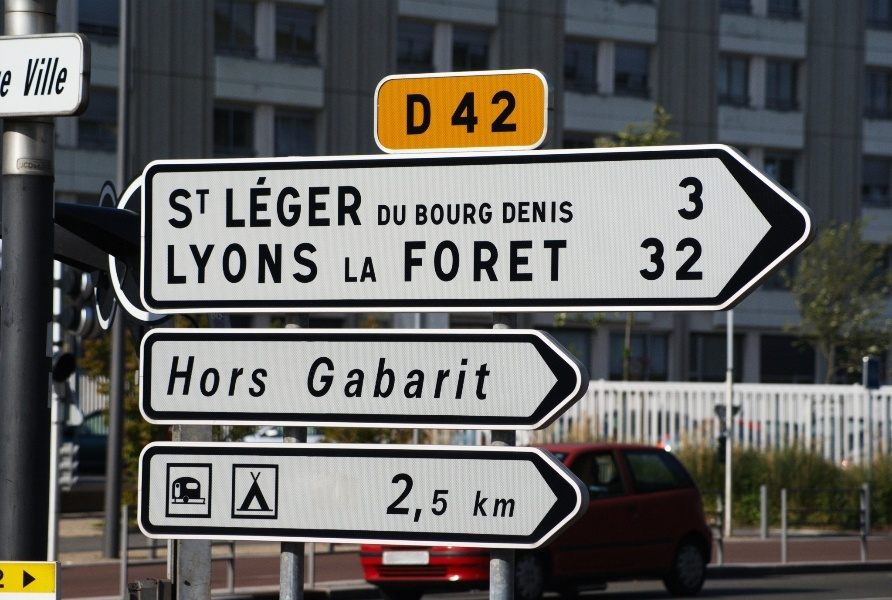text: (241, 176, 256, 228), (257, 176, 272, 228), (273, 176, 288, 228), (289, 176, 304, 228), (305, 176, 320, 228), (321, 176, 336, 228), (337, 176, 352, 228), (401, 473, 416, 523), (417, 473, 432, 523), (433, 473, 448, 523), (193, 187, 209, 232), (689, 176, 705, 221), (417, 92, 433, 137), (465, 89, 480, 135), (481, 89, 496, 135), (497, 89, 512, 135), (227, 176, 240, 228), (177, 187, 192, 232), (321, 356, 336, 401), (337, 356, 352, 401), (353, 356, 368, 401), (369, 356, 384, 401), (385, 356, 400, 401), (401, 356, 416, 401), (417, 356, 432, 401), (433, 356, 448, 401), (449, 356, 464, 401), (465, 356, 480, 401), (257, 356, 273, 398), (641, 238, 656, 282), (657, 238, 672, 282), (673, 238, 688, 282), (177, 242, 192, 285), (193, 242, 208, 285), (209, 242, 224, 285), (225, 242, 240, 285), (241, 242, 256, 285), (257, 242, 272, 285), (273, 242, 288, 285), (289, 242, 304, 285), (417, 239, 432, 282), (433, 239, 448, 282), (449, 239, 464, 282), (465, 239, 480, 282), (481, 239, 496, 282), (497, 239, 512, 282), (513, 239, 528, 282), (529, 239, 544, 282), (545, 239, 560, 282), (33, 55, 48, 98), (49, 55, 64, 98), (177, 356, 192, 398), (193, 356, 208, 398), (209, 356, 224, 398), (225, 356, 240, 398), (241, 356, 256, 398), (689, 238, 703, 282), (451, 89, 464, 135), (305, 242, 318, 285), (481, 356, 493, 401), (353, 176, 363, 228), (405, 239, 416, 282), (678, 176, 688, 221), (391, 473, 400, 523), (2, 69, 16, 99), (167, 187, 176, 232), (311, 356, 320, 401), (481, 490, 496, 517), (497, 490, 512, 517), (407, 92, 416, 137), (353, 257, 368, 283), (385, 203, 400, 227), (417, 203, 432, 226), (433, 203, 448, 226), (449, 203, 464, 226), (465, 203, 480, 226), (513, 201, 528, 224), (529, 201, 544, 224), (545, 201, 560, 224), (168, 242, 176, 285), (65, 55, 73, 98), (481, 203, 493, 226), (561, 201, 573, 224), (561, 239, 567, 282), (369, 257, 377, 283), (503, 201, 512, 224), (513, 89, 517, 135), (345, 257, 352, 283), (449, 473, 452, 523), (378, 203, 384, 227), (513, 490, 518, 517), (173, 356, 176, 398), (401, 203, 406, 227), (30, 55, 32, 98), (477, 490, 480, 517), (639, 238, 640, 282)
